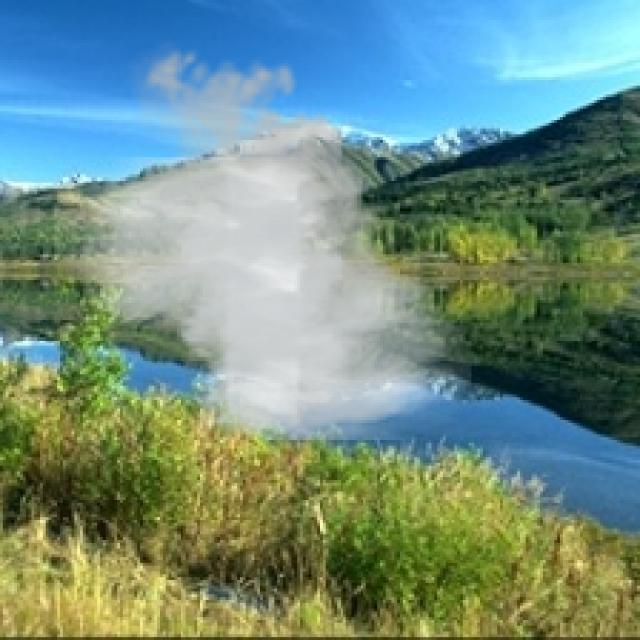Smoke: (54, 37, 472, 440)
